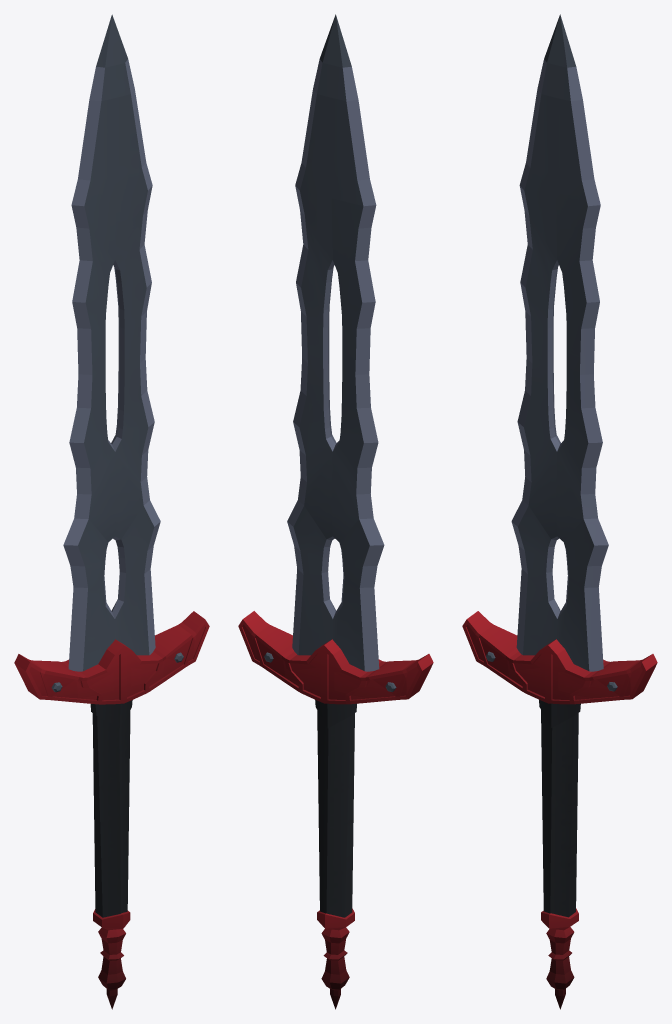
File: Sword_1.fbx
3 renders of one model, left to right at view 1: azimuth 30°, elevation 25°; view 2: azimuth 150°, elevation 25°; view 3: azimuth 330°, elevation 25°, orthographic.
Visible parts, largest first — view 1: Sword_1; view 2: Sword_1; view 3: Sword_1.
Boxes of the visible parts, bbox=[...] form: Sword_1: bbox=[14, 14, 209, 1009]; Sword_1: bbox=[238, 14, 433, 1009]; Sword_1: bbox=[462, 14, 657, 1009].
Bounding box in the file's own units: 29.55 × 153 × 6.59.
1 material, 1 textured.
